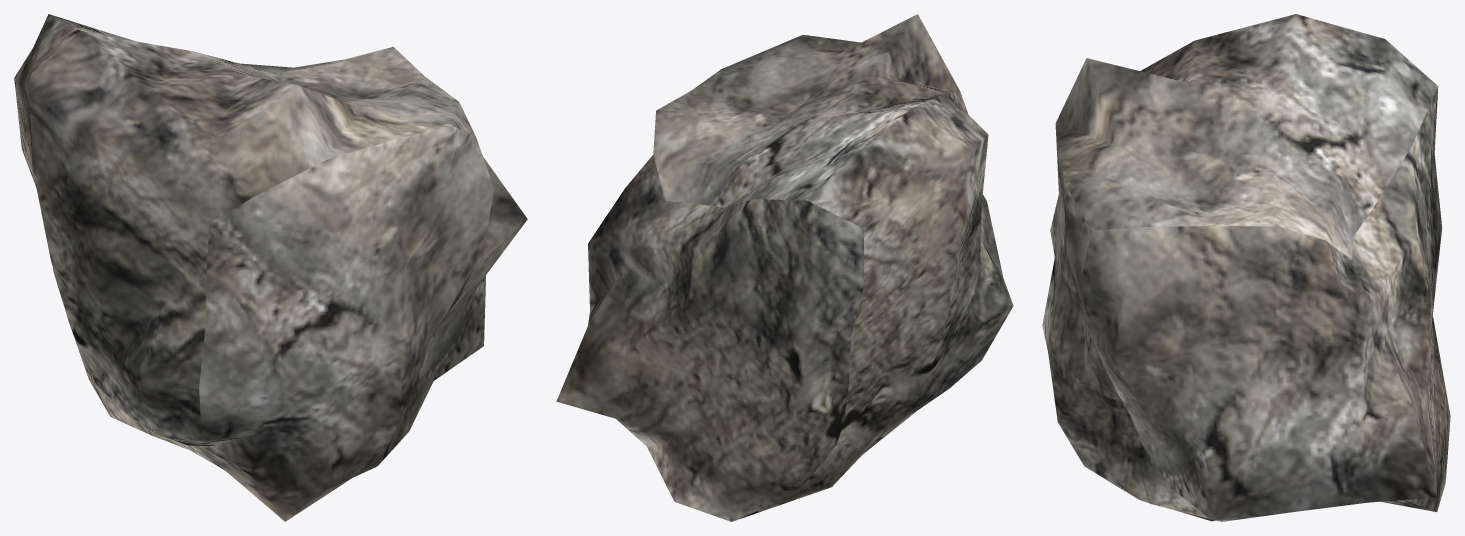
The model's file is rockB.FBX.
3 views of the same model, side by side, from view 1: azimuth 30°, elevation 25°; view 2: azimuth 150°, elevation 25°; view 3: azimuth 270°, elevation 25° (orthographic). The views are drawn at different scales.
Parts seen in each view (by area): view 1: rockLP003; view 2: rockLP003; view 3: rockLP003.
Part boxes in pixels (x1,y1,x2,y2): rockLP003: (14, 14, 527, 521); rockLP003: (556, 14, 1013, 521); rockLP003: (1042, 14, 1450, 521).
Size of the model in its own units: 257 by 266 by 233.
Materials: 1 (1 with a texture image).
